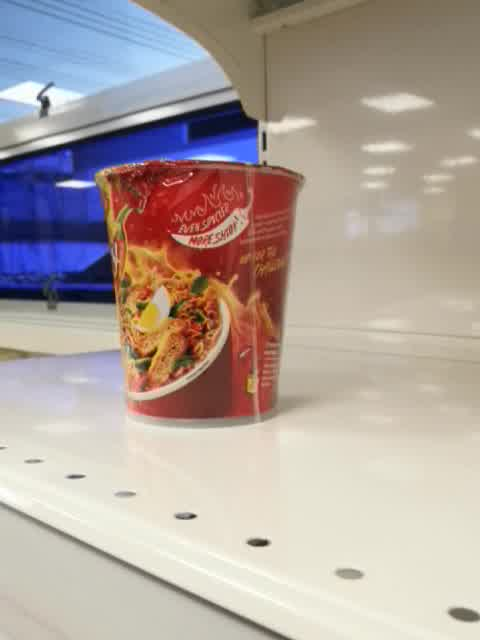maggi: (95, 157, 306, 431)
